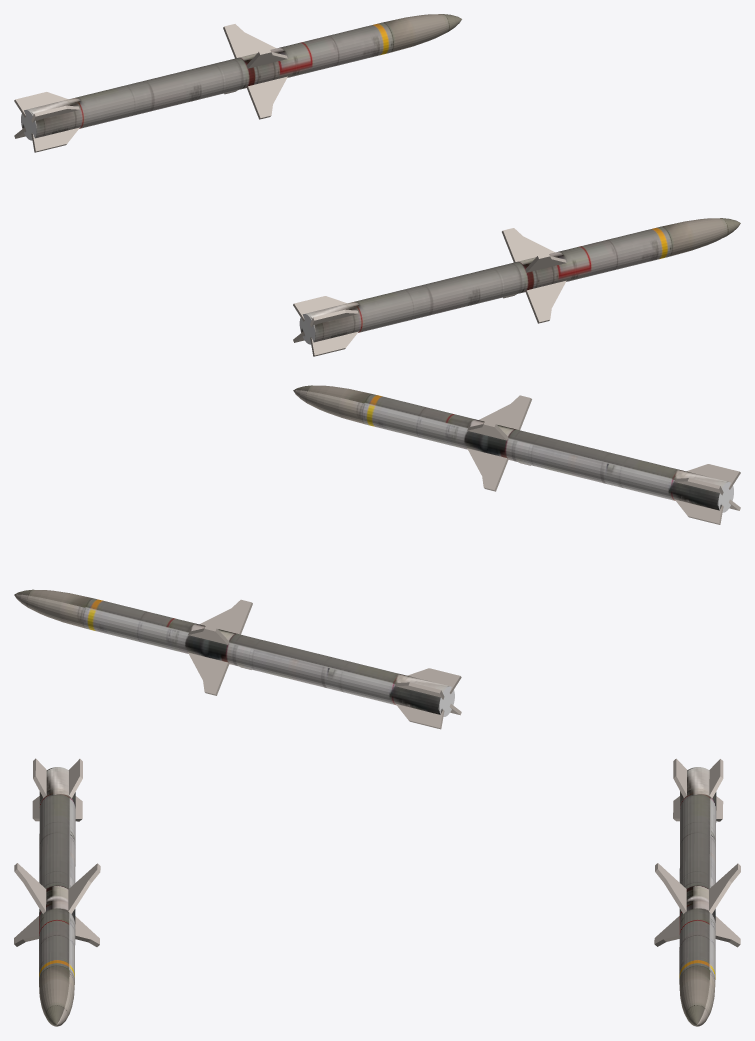
Rendered from fa18fagm8834.glb.
The picture shows the model from 3 angles, top to bottom: view 1: azimuth 30°, elevation 25°; view 2: azimuth 150°, elevation 25°; view 3: azimuth 270°, elevation 25°; orthographic projection. The views are drawn at different scales.
Visible parts, largest first — view 1: 円柱.007, 円柱.003; view 2: 円柱.007, 円柱.003; view 3: 円柱.003, 円柱.007.
Boxes of the visible parts, left/top/right/bottom form: 円柱.007: left=14, top=14, right=461, bottom=152; 円柱.003: left=293, top=218, right=740, bottom=356; 円柱.007: left=14, top=589, right=461, bottom=729; 円柱.003: left=293, top=385, right=740, bottom=524; 円柱.003: left=14, top=758, right=100, bottom=1026; 円柱.007: left=654, top=758, right=740, bottom=1026.
Size of the model in its own units: 4.9 by 0.7319 by 6.15.
Materials: 2 (1 with a texture image).
